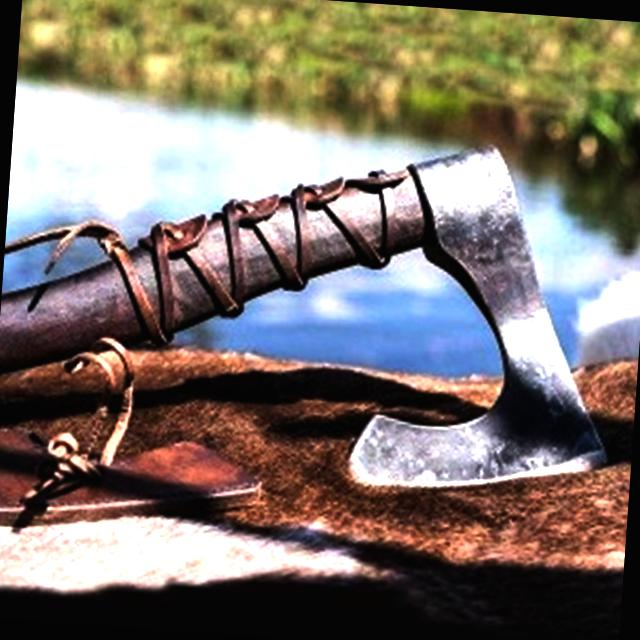ax: (0, 102, 638, 510)
